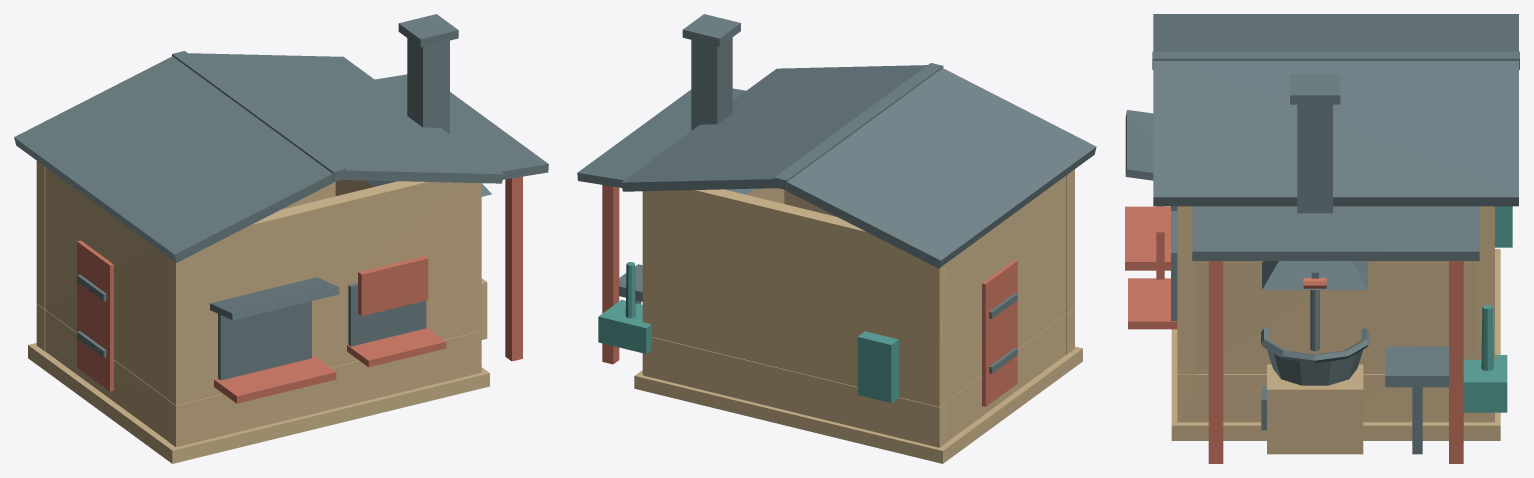
Rendered from Preserve-Kitchen.glb.
3 views of the same model, side by side, from view 1: azimuth 30°, elevation 25°; view 2: azimuth 150°, elevation 25°; view 3: azimuth 270°, elevation 25° (orthographic). The views are drawn at different scales.
Visible parts, largest first — view 1: preserve-kitchen-static-preserve-kitchen-dark-galvanized-mat, preserve-kitchen-static-preserve-kitchen-pale-plaster-mat, preserve-kitchen-static-preserve-kitchen-warm-stone-mat, preserve-kitchen-static-preserve-kitchen-weathered-timber-ma, preserve-kitchen-static-preserve-kitchen-dark-iron-mat; view 2: preserve-kitchen-static-preserve-kitchen-pale-plaster-mat, preserve-kitchen-static-preserve-kitchen-dark-galvanized-mat, preserve-kitchen-static-preserve-kitchen-warm-stone-mat, preserve-kitchen-static-preserve-kitchen-weathered-timber-ma, preserve-kitchen-static-preserve-kitchen-blue-grey-fixture-m, preserve-kitchen-static-preserve-kitchen-dark-iron-mat; view 3: preserve-kitchen-static-preserve-kitchen-dark-galvanized-mat, preserve-kitchen-static-preserve-kitchen-pale-plaster-mat, preserve-kitchen-static-preserve-kitchen-warm-stone-mat, preserve-kitchen-static-preserve-kitchen-weathered-timber-ma, preserve-kitchen-static-preserve-kitchen-dark-iron-mat, preserve-kitchen-static-preserve-kitchen-blue-grey-fixture-m.
Part boxes in pixels (x1,y1,x2,y2): preserve-kitchen-static-preserve-kitchen-dark-galvanized-mat: (14, 38, 548, 320); preserve-kitchen-static-preserve-kitchen-pale-plaster-mat: (36, 161, 481, 405); preserve-kitchen-static-preserve-kitchen-warm-stone-mat: (28, 278, 489, 463); preserve-kitchen-static-preserve-kitchen-weathered-timber-ma: (77, 176, 522, 403); preserve-kitchen-static-preserve-kitchen-dark-iron-mat: (77, 14, 458, 380); preserve-kitchen-static-preserve-kitchen-pale-plaster-mat: (642, 169, 1074, 406); preserve-kitchen-static-preserve-kitchen-dark-galvanized-mat: (577, 37, 1096, 301); preserve-kitchen-static-preserve-kitchen-warm-stone-mat: (634, 308, 1082, 463); preserve-kitchen-static-preserve-kitchen-weathered-timber-ma: (602, 185, 1017, 406); preserve-kitchen-static-preserve-kitchen-blue-grey-fixture-m: (598, 262, 898, 402); preserve-kitchen-static-preserve-kitchen-dark-iron-mat: (635, 14, 1017, 373); preserve-kitchen-static-preserve-kitchen-dark-galvanized-mat: (1125, 14, 1518, 387); preserve-kitchen-static-preserve-kitchen-pale-plaster-mat: (1177, 206, 1494, 374); preserve-kitchen-static-preserve-kitchen-warm-stone-mat: (1171, 249, 1500, 454); preserve-kitchen-static-preserve-kitchen-weathered-timber-ma: (1125, 206, 1463, 463); preserve-kitchen-static-preserve-kitchen-dark-iron-mat: (1152, 51, 1519, 454); preserve-kitchen-static-preserve-kitchen-blue-grey-fixture-m: (1463, 206, 1512, 412).
Size of the model in its own units: 4.93 by 3.77 by 3.78.
